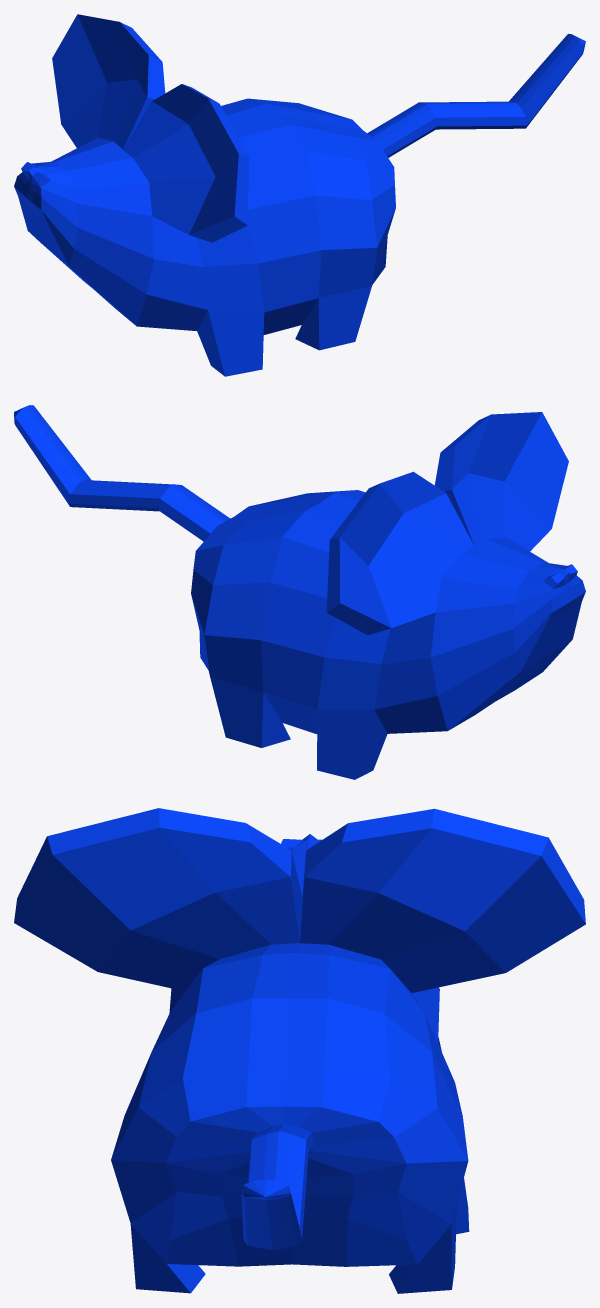
Rendered from mouse.fbx.
3 views of the same model, one above another, from view 1: azimuth 30°, elevation 25°; view 2: azimuth 150°, elevation 25°; view 3: azimuth 270°, elevation 25° (orthographic). The views are drawn at different scales.
Visible parts, largest first — view 1: Cube.002; view 2: Cube.002; view 3: Cube.002.
Boxes of the visible parts, x1=… form: Cube.002: x1=14, y1=14, x2=585, y2=376; Cube.002: x1=14, y1=405, x2=585, y2=779; Cube.002: x1=14, y1=808, x2=585, y2=1293.
Bounding box in the file's own units: 487 × 243 × 313.
